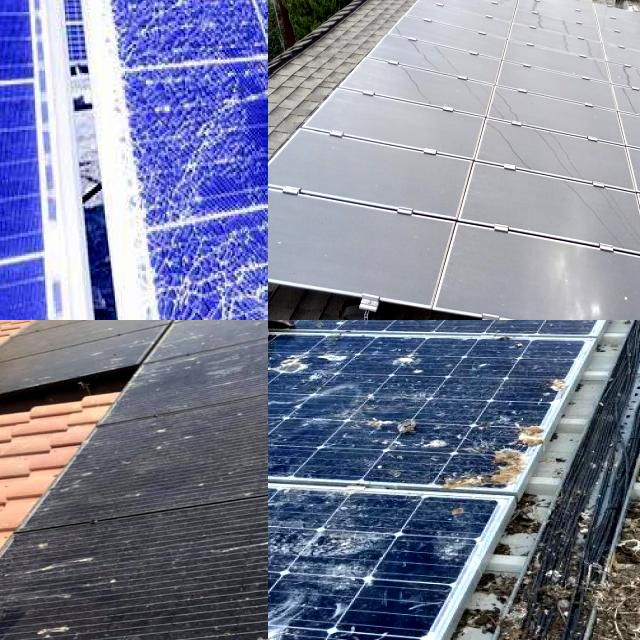bird: (0, 530, 134, 590), (3, 605, 124, 640), (358, 406, 443, 448), (147, 408, 202, 460), (268, 354, 348, 382), (268, 556, 323, 592), (380, 320, 458, 339), (436, 320, 513, 339), (268, 399, 298, 434), (502, 320, 574, 333), (268, 490, 303, 516), (268, 370, 296, 395), (550, 320, 579, 336), (268, 320, 294, 334)
dust: (541, 228, 640, 320), (268, 196, 300, 272)
hotspot: (165, 203, 211, 320)
